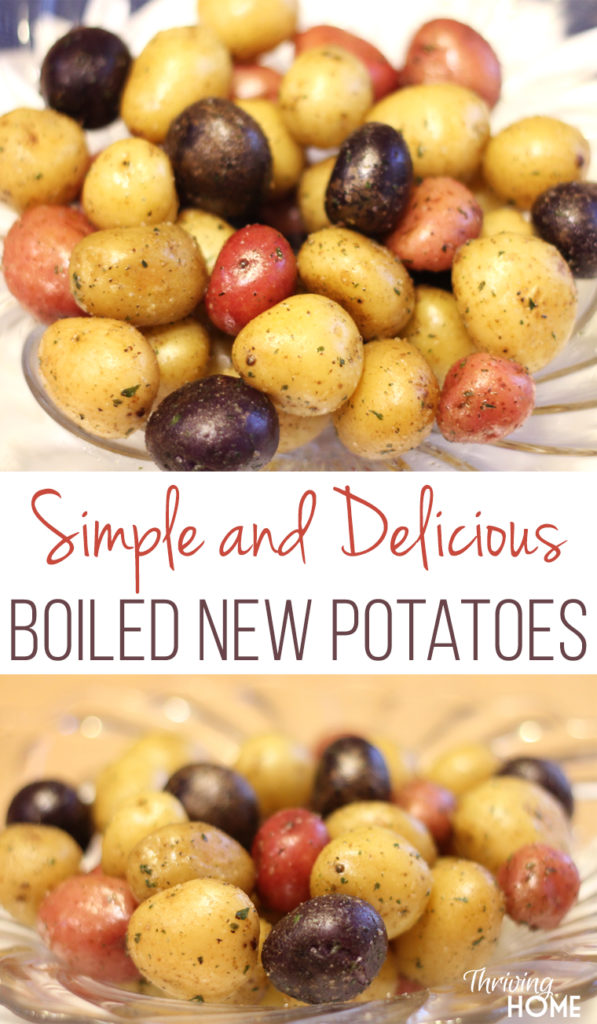boiled potatoes: (23, 48, 561, 443), (26, 757, 563, 985)
